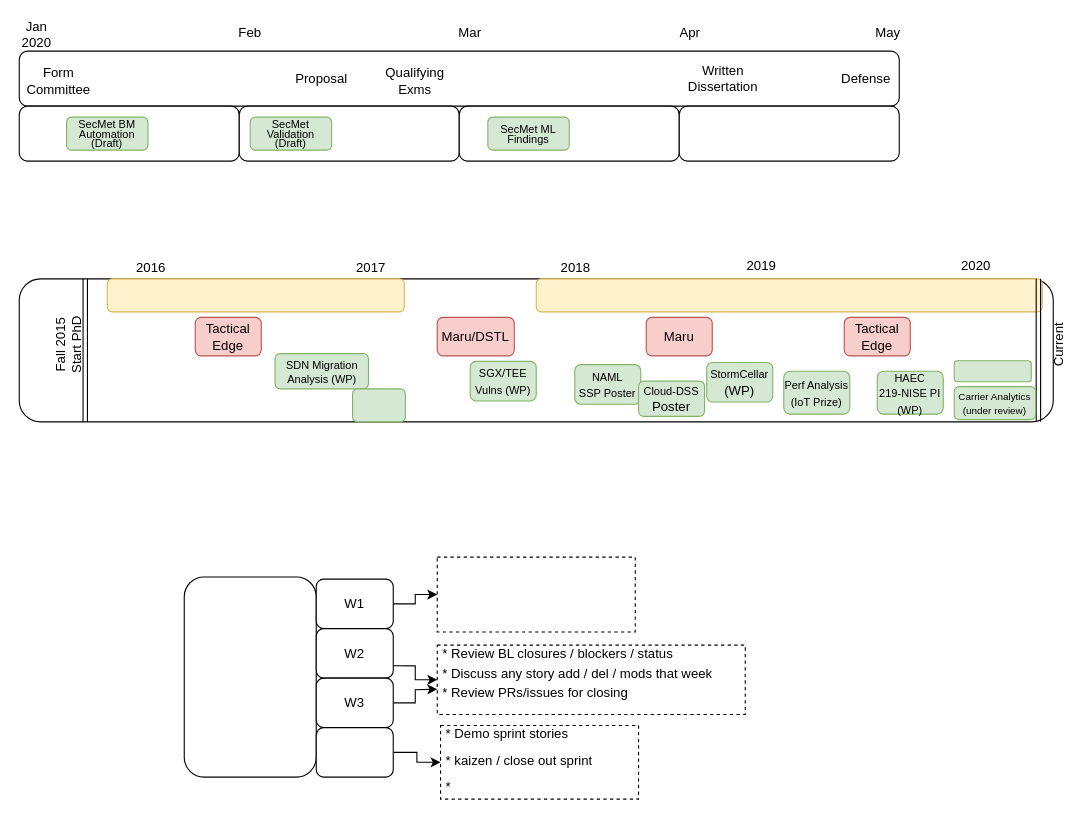
Some shapes in this 1089 by 818 pixel diagram are drawn without their labels. Each missing label, with the centre of its shape:
"* Add stories to BL * Close prev sprint *" belongs at point 535,594.
"1 Month Sprint Meeting Agendas (S?M?)" belongs at point 249,676.
"AT&T SDN Migration Analytics" belongs at point 255,295.
"CACN Poster" belongs at point 378,405.
"Cloud Perf (WP)" belongs at point 992,371.
"Google Cloud Benchmarking" belongs at point 788,295.
"W4" belongs at point 354,752.
